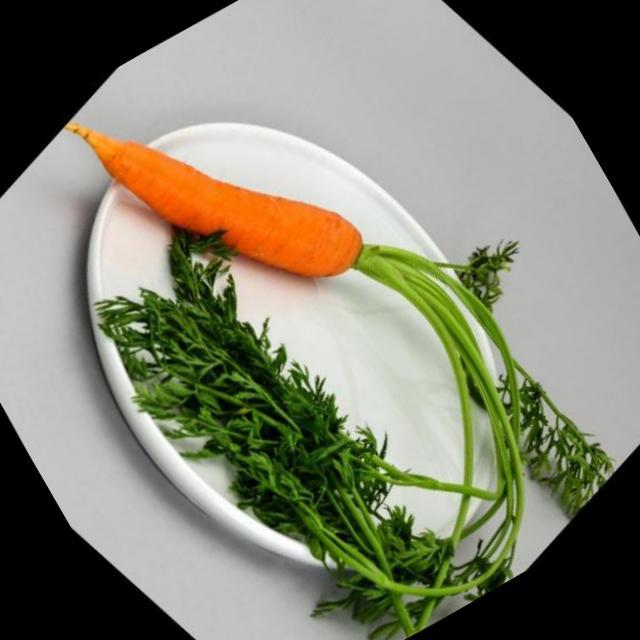carrot: (44, 0, 613, 602)
